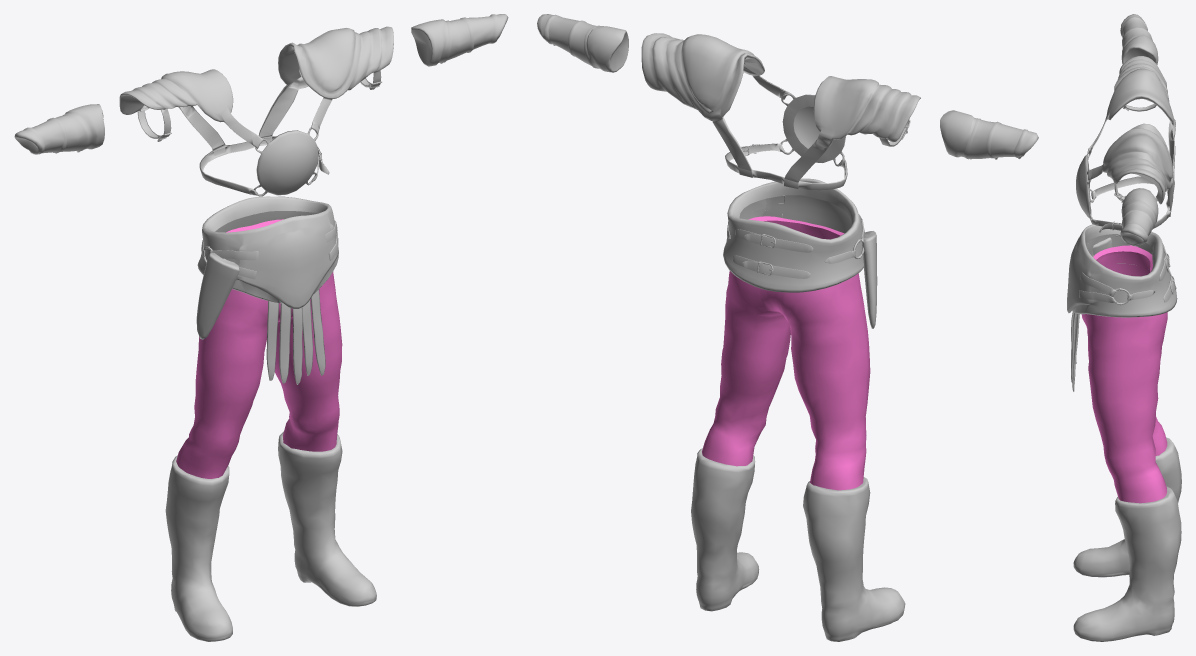
File: _est.fbx
3 renders of one model, left to right at view 1: azimuth 30°, elevation 25°; view 2: azimuth 150°, elevation 25°; view 3: azimuth 270°, elevation 25°, orthographic. The views are drawn at different scales.
Visible parts, largest first — view 1: Trousers, Gladiator_Belt, Boot_Left, Boot_Right, Spaulder_L, Spaulder_R, Spaulder_Chest, Pteruges, Bracer_L, Bracer_R, Dagger_Pouch; view 2: Trousers, Gladiator_Belt, Boot_Right, Spaulder_L, Boot_Left, Spaulder_R, Spaulder_Chest, Bracer_R, Bracer_L, Dagger_Pouch; view 3: Trousers, Boot_Left, Gladiator_Belt, Spaulder_L, Spaulder_R, Boot_Right, Bracer_L, Spaulder_Chest, Bracer_R, Pteruges, Dagger_Pouch.
Part boxes in pixels (x1=…): Trousers: x1=176, y1=219, x2=342, y2=478; Gladiator_Belt: x1=197, y1=196, x2=338, y2=308; Boot_Left: x1=278, y1=431, x2=376, y2=606; Boot_Right: x1=165, y1=455, x2=232, y2=641; Spaulder_L: x1=258, y1=26, x2=393, y2=140; Spaulder_R: x1=119, y1=69, x2=269, y2=153; Spaulder_Chest: x1=199, y1=130, x2=329, y2=196; Pteruges: x1=266, y1=289, x2=325, y2=384; Bracer_L: x1=411, y1=14, x2=508, y2=66; Bracer_R: x1=14, y1=104, x2=104, y2=154; Dagger_Pouch: x1=196, y1=253, x2=239, y2=339; Trousers: x1=702, y1=216, x2=870, y2=490; Gladiator_Belt: x1=723, y1=178, x2=865, y2=292; Boot_Right: x1=803, y1=477, x2=905, y2=641; Spaulder_L: x1=641, y1=33, x2=795, y2=170; Boot_Left: x1=691, y1=448, x2=759, y2=611; Spaulder_R: x1=784, y1=76, x2=920, y2=182; Spaulder_Chest: x1=725, y1=94, x2=847, y2=190; Bracer_R: x1=940, y1=110, x2=1038, y2=159; Bracer_L: x1=537, y1=14, x2=628, y2=72; Dagger_Pouch: x1=862, y1=231, x2=877, y2=328; Trousers: x1=1081, y1=245, x2=1167, y2=503; Boot_Left: x1=1073, y1=486, x2=1181, y2=641; Gladiator_Belt: x1=1067, y1=222, x2=1177, y2=317; Spaulder_L: x1=1087, y1=123, x2=1174, y2=210; Spaulder_R: x1=1087, y1=56, x2=1175, y2=178; Boot_Right: x1=1073, y1=437, x2=1181, y2=577; Bracer_L: x1=1120, y1=188, x2=1158, y2=246; Spaulder_Chest: x1=1076, y1=154, x2=1171, y2=232; Bracer_R: x1=1120, y1=14, x2=1158, y2=64; Pteruges: x1=1071, y1=312, x2=1079, y2=391; Dagger_Pouch: x1=1089, y1=237, x2=1111, y2=255.
Bounding box in the file's own units: 153 × 164 × 34.15.
